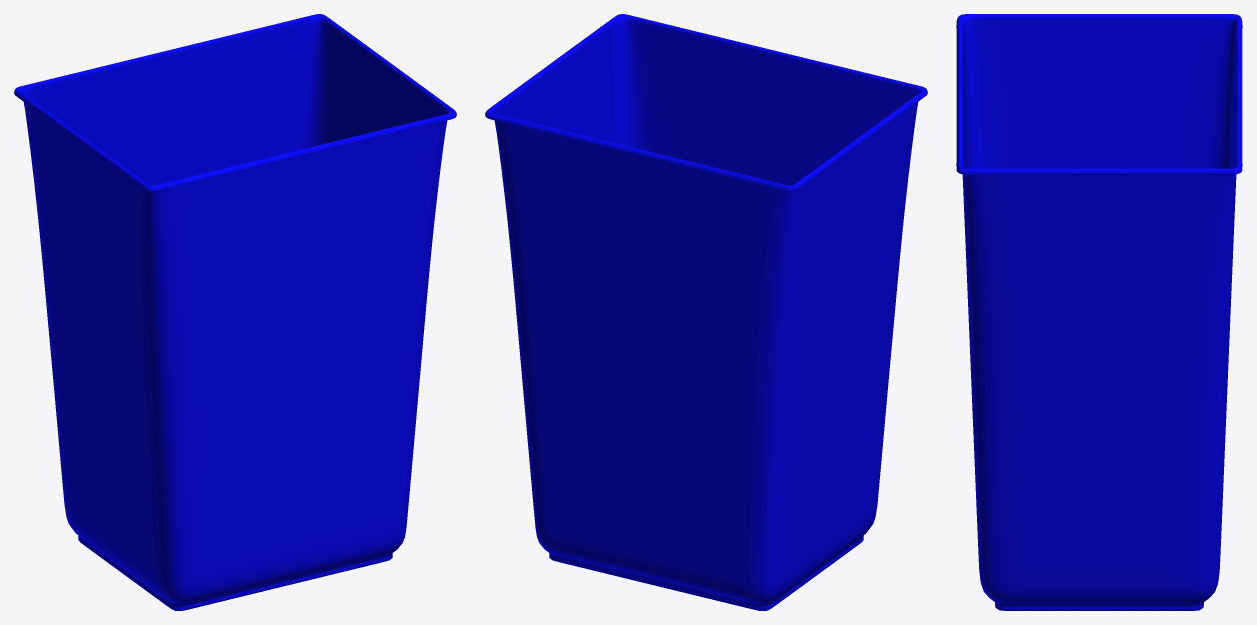
The model's file is Recycle_Trash_Bin.glb.
3 renders of one model, left to right at view 1: azimuth 30°, elevation 25°; view 2: azimuth 150°, elevation 25°; view 3: azimuth 270°, elevation 25°, orthographic. The views are drawn at different scales.
Visible parts, largest first — view 1: RecyclingBin-col; view 2: RecyclingBin-col; view 3: RecyclingBin-col.
Boxes of the visible parts, box(x1,y1,x2,y2) form: RecyclingBin-col: box(14, 14, 456, 610); RecyclingBin-col: box(485, 14, 927, 610); RecyclingBin-col: box(956, 14, 1242, 610).
Bounding box in the file's own units: 0.6674 × 0.9169 × 0.5123.
